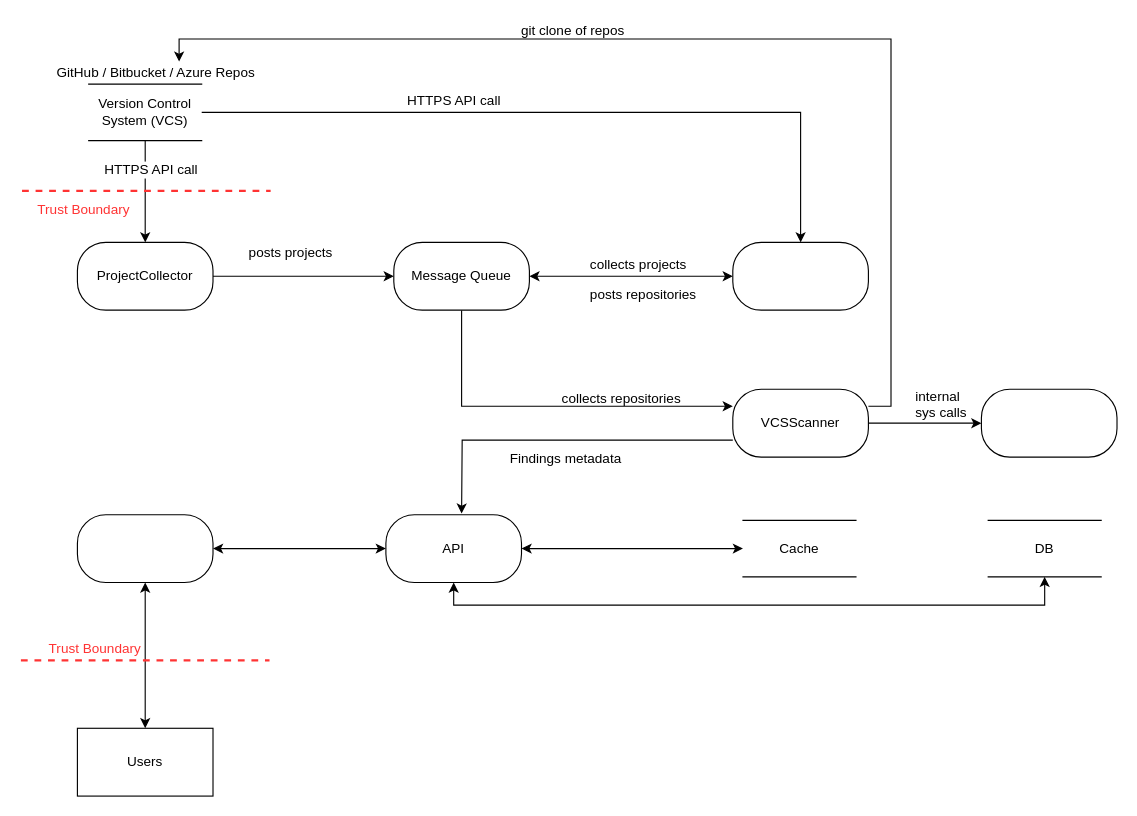
The diagram is 1137 pixels wide and 816 high, and some of its shapes have lost their labels. The shapes that lost their labels are listed below. From the top down, each one's centre as x and y in pixels, then its label:
pixel 800 275: RepositoryCollector
pixel 1048 422: 3rd party tool GitLeaks
pixel 144 548: Frontend
